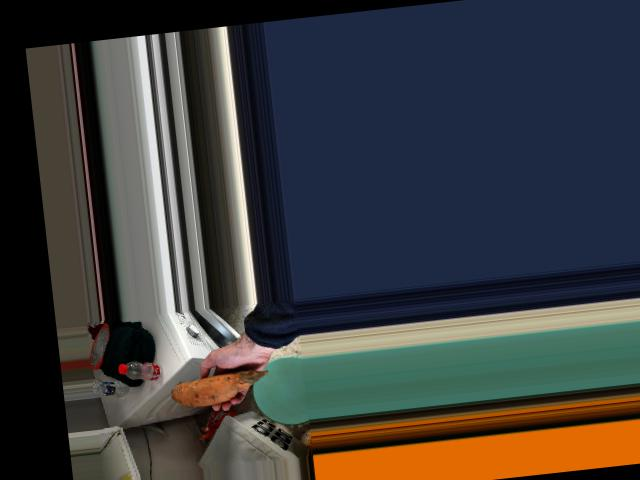sweet_potato: (174, 373, 281, 412)
